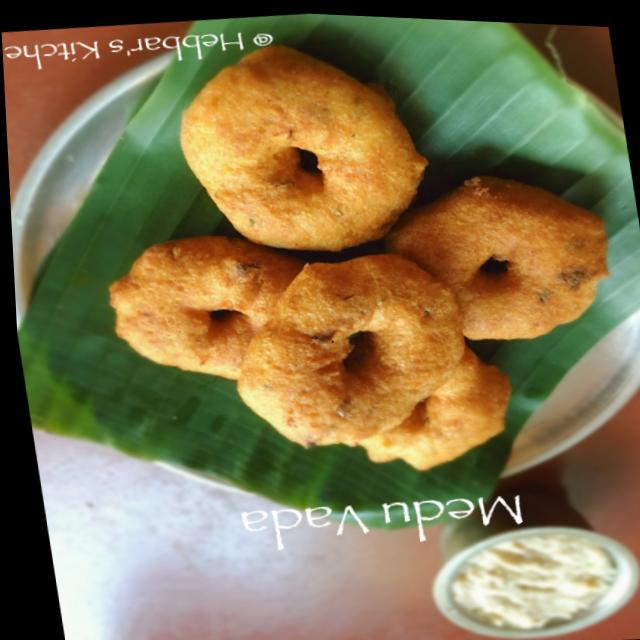VADA: (108, 45, 611, 474)
WHITE CHUTNEY: (455, 532, 616, 632)
